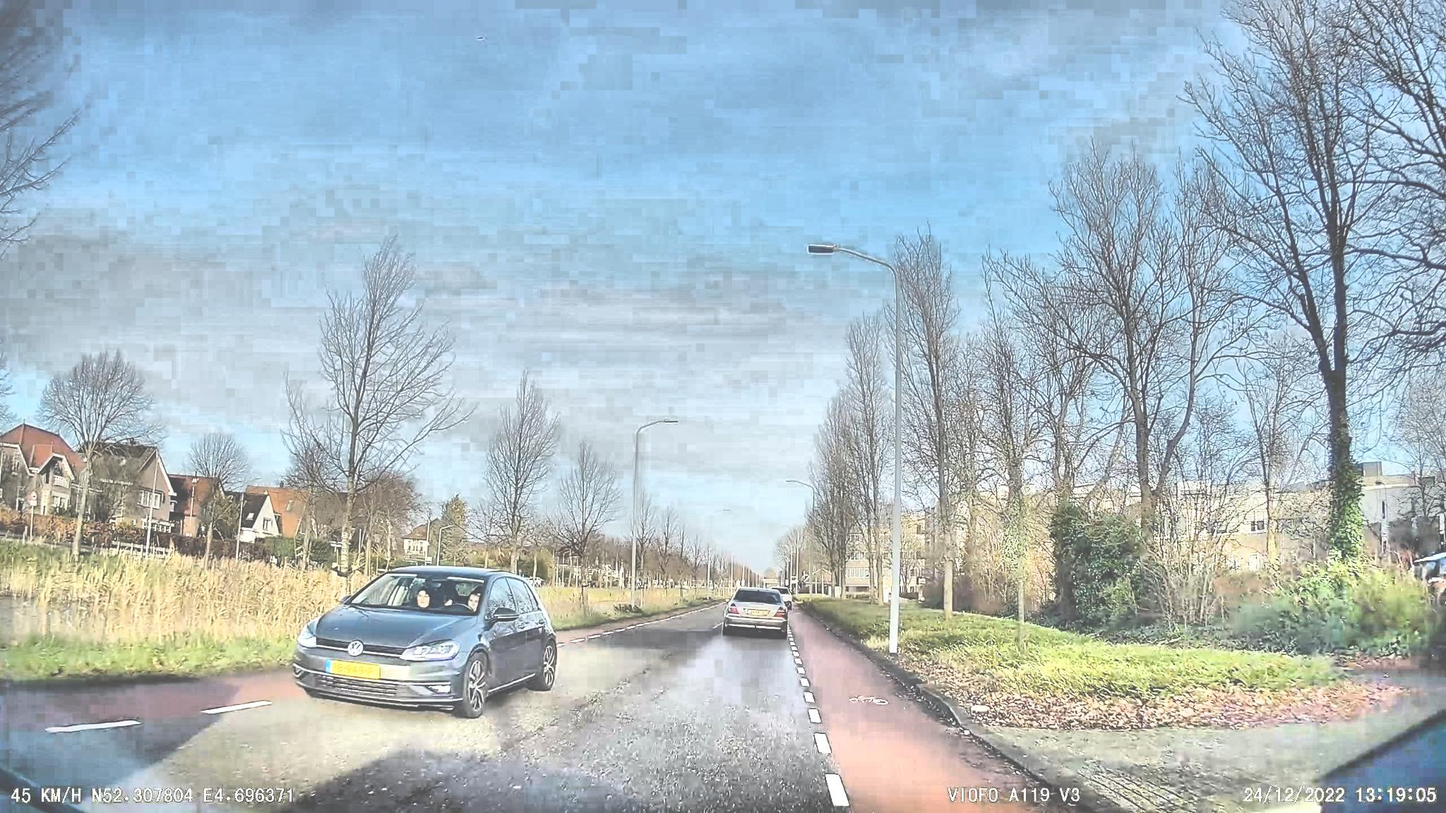Roads: (0, 608, 1034, 813)
